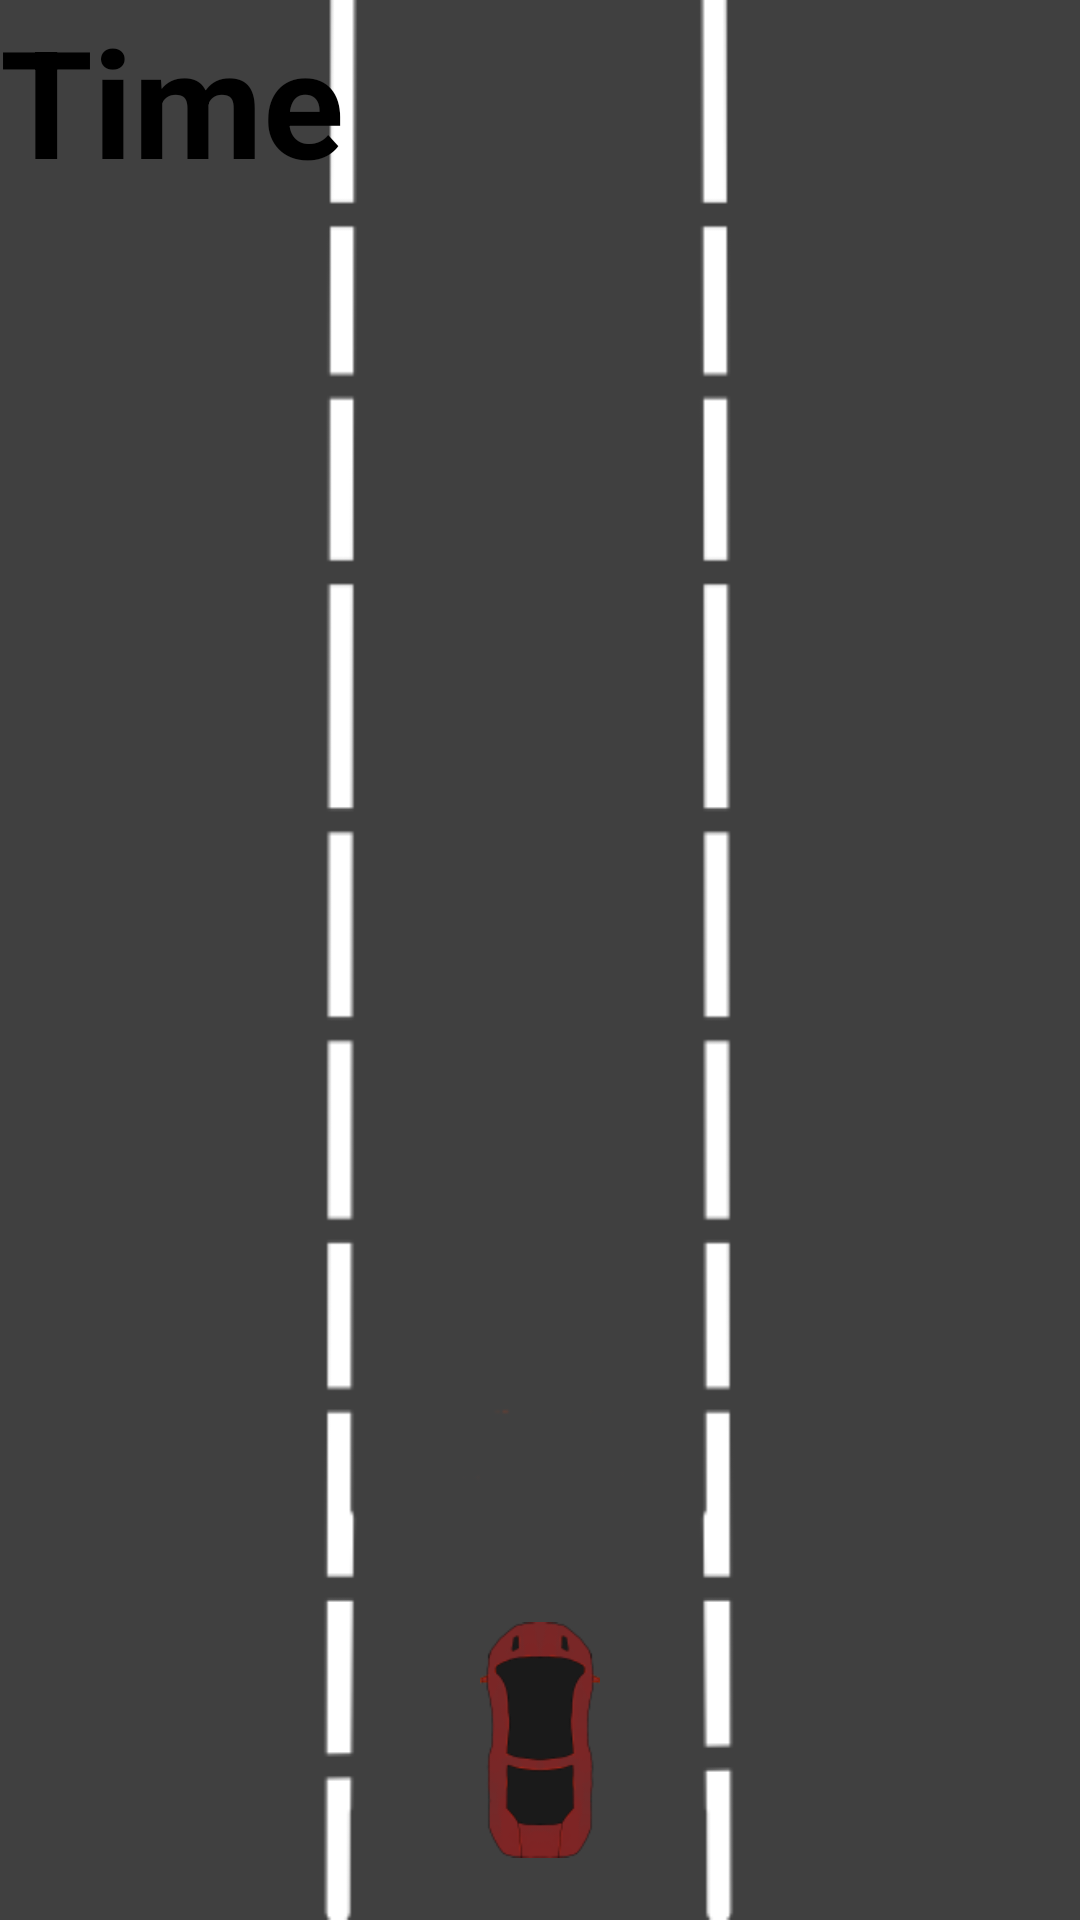

Screen size 1080px×1920px. Icon name, then its box in pixels as (x1=x1, y1=y1, x2=x2, y2=y2):
car: (x1=480, y1=1622, x2=600, y2=1858)
